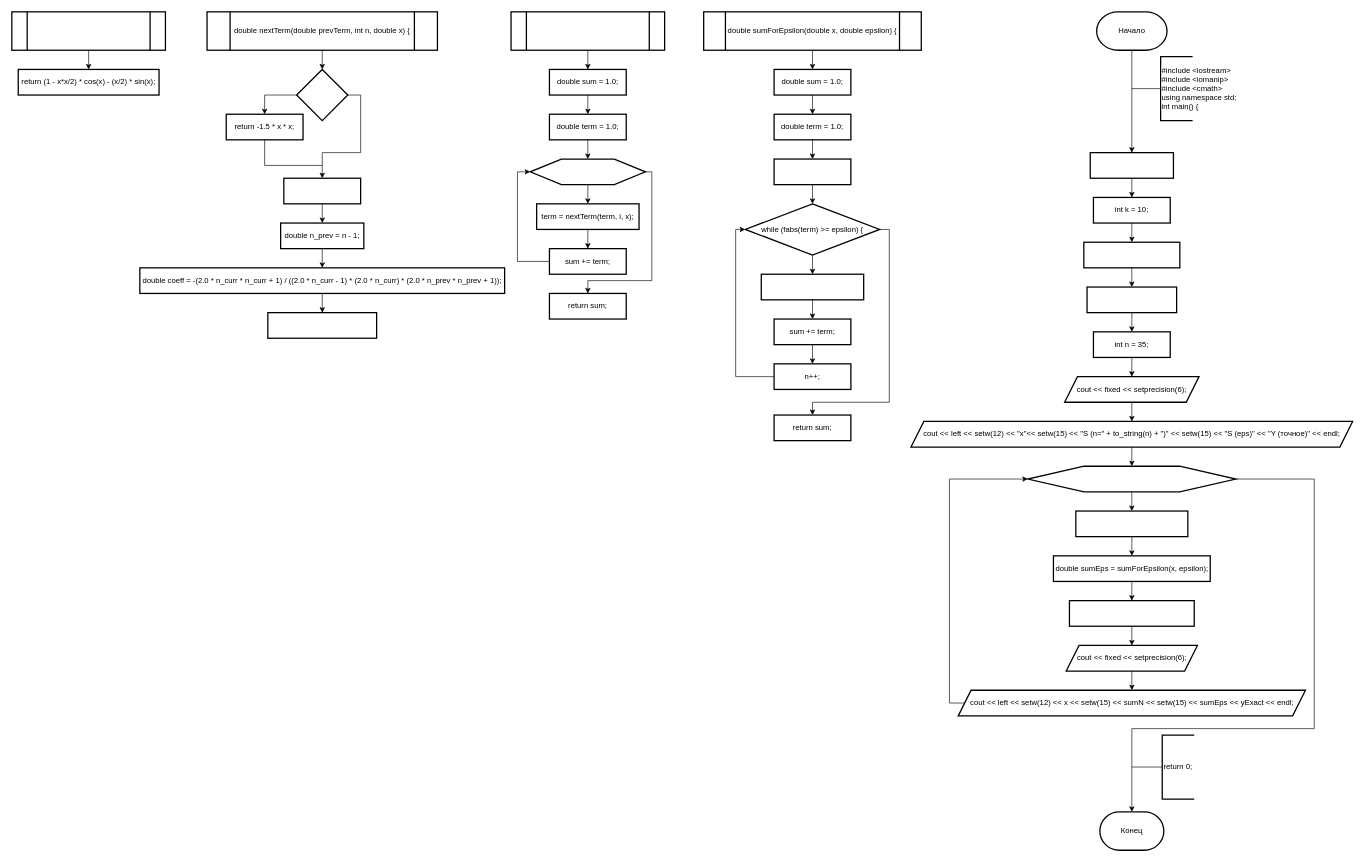
Some shapes in this 1364 by 861 pixel diagram are drawn without their labels. The box of each missing label's shape, as (x1, y1, x2, y2) in pixels:
double a = 0.1, b = 1.0;: (1089, 152, 1174, 179)
double epsilon = 0.0001;: (1086, 286, 1177, 313)
double exactFunction(double x) {: (11, 11, 166, 51)
double n_curr = n;: (283, 177, 361, 204)
double step = (b - a) / k;: (1083, 241, 1180, 268)
double sumForN(double x, int n) {: (510, 11, 665, 51)
double sumN = sumForN(x, n);: (1075, 510, 1188, 537)
double yExact = exactFunction(x);: (1068, 600, 1195, 627)
for (double x = a; x <= b + step/2; x += step) {: (1027, 465, 1236, 492)
for (int i = 1; i <= n; i++) {: (529, 158, 646, 185)
if (n == 1) {: (296, 68, 348, 121)
int n = 1;: (773, 158, 851, 185)
return prevTerm * coeff * x * x;: (267, 312, 377, 339)
term = nextTerm(term, n, x);: (760, 273, 864, 300)
